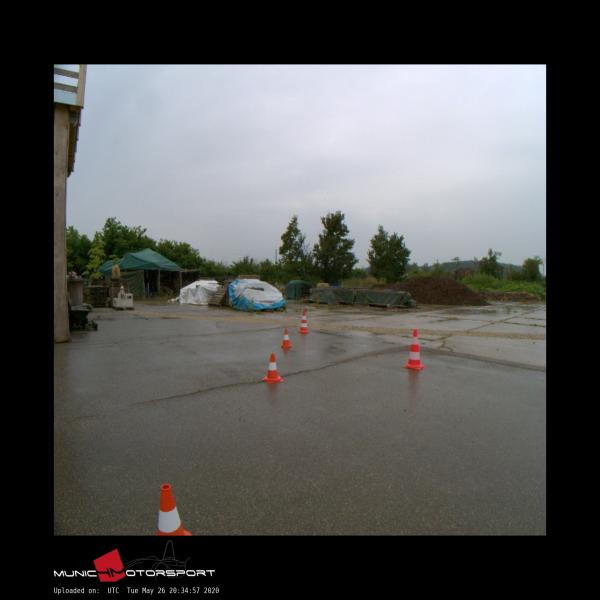large_orange_cone: (403, 330, 425, 368), (298, 310, 309, 332)
orange_cone: (157, 484, 192, 535), (262, 353, 282, 383), (280, 329, 292, 347)
